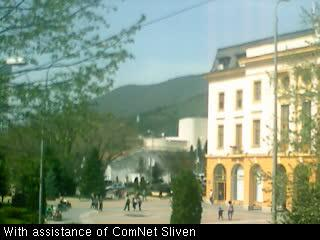person: (227, 200, 234, 221), (124, 196, 130, 212), (131, 196, 137, 211), (218, 206, 224, 220), (90, 192, 95, 208), (209, 189, 214, 204), (142, 188, 147, 202), (99, 195, 103, 212), (137, 198, 142, 211), (94, 195, 98, 210), (159, 186, 163, 200), (115, 187, 119, 199), (121, 187, 125, 198), (118, 188, 122, 198), (63, 200, 67, 209), (170, 189, 173, 199), (112, 188, 115, 198)
